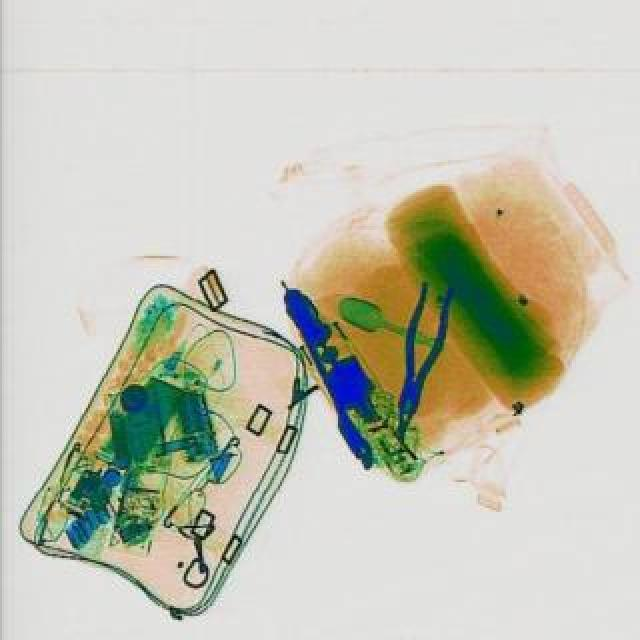wrench: (380, 278, 458, 440)
